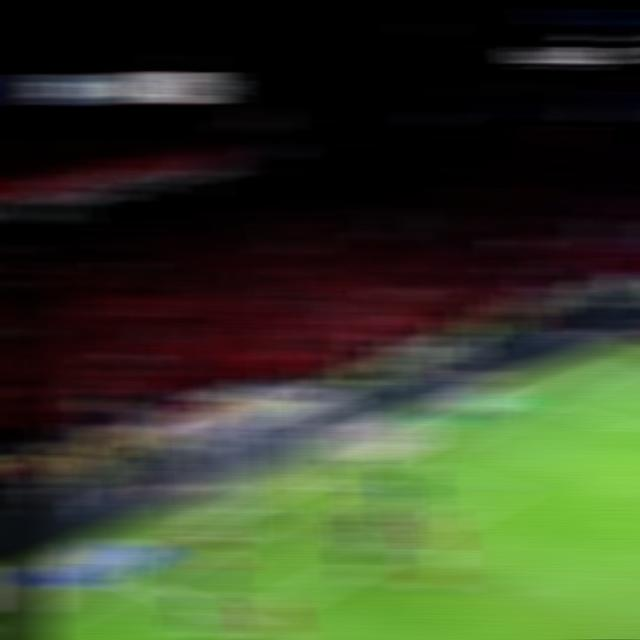bigarea_top_outter: (518, 392, 560, 413)
smallarea_bottom_inner: (225, 609, 266, 636)
smallarea_bottom_outter: (111, 569, 156, 596)
smallarea_top_inner: (487, 478, 528, 501)
smallarea_top_outter: (392, 449, 429, 467)
